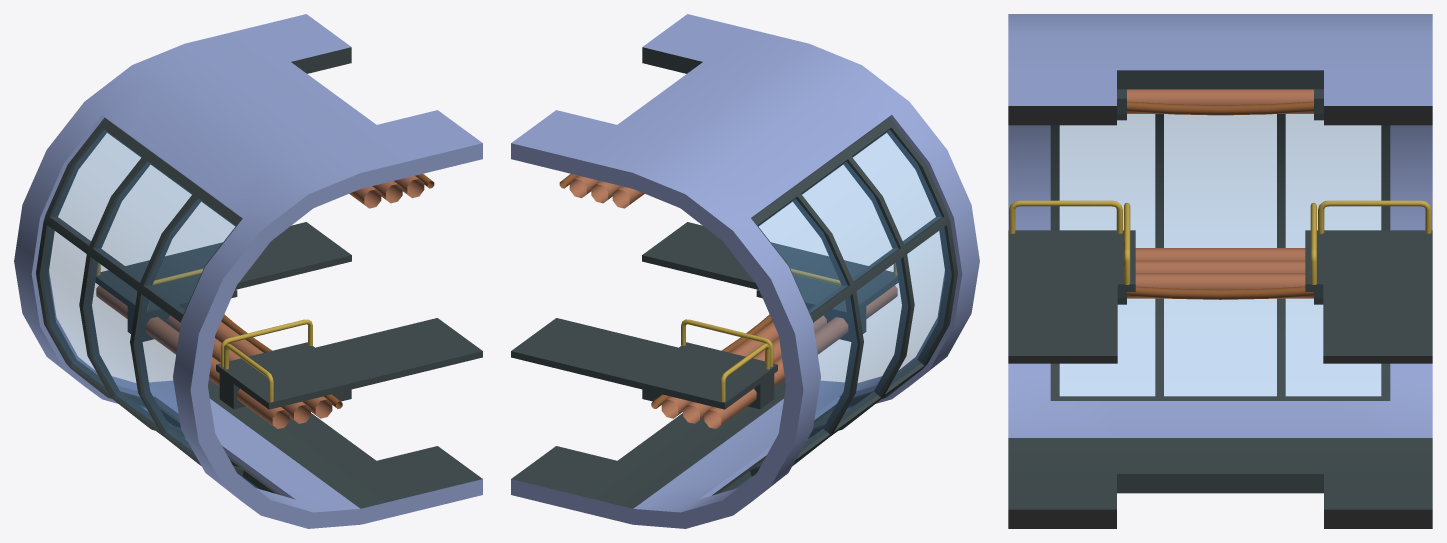
Rendered from Block_mid_01.fbx.
The picture shows the model from 3 angles, left to right: view 1: azimuth 30°, elevation 25°; view 2: azimuth 150°, elevation 25°; view 3: azimuth 270°, elevation 25°; orthographic projection. The views are drawn at different scales.
Parts seen in each view (by area): view 1: Circle.005; view 2: Circle.005; view 3: Circle.005.
Boxes of the visible parts, x1,y1,x2,y2 form: Circle.005: (14,14,482,528); Circle.005: (511,14,979,528); Circle.005: (1008,14,1432,528).
Size of the model in its own units: 9.57 by 11 by 10.
